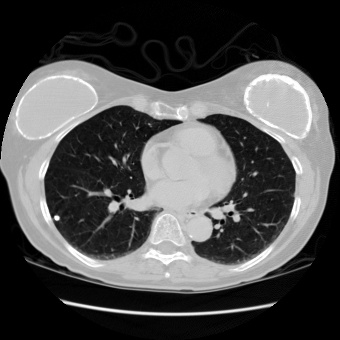PN: (52, 214, 60, 222)
